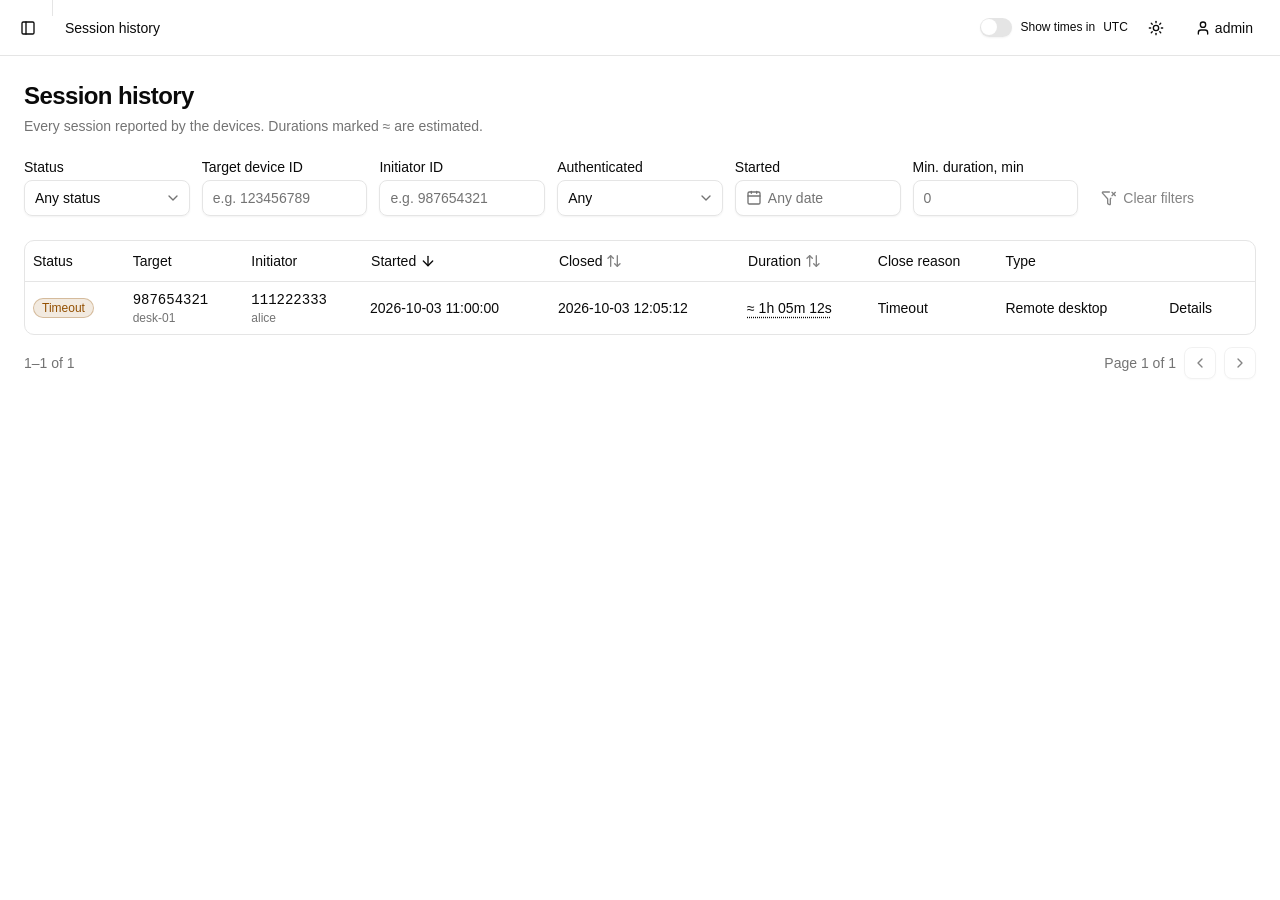
Test: session history › opens a detail sheet with the close reason and the escaped raw events
Click the button with aria-label "Details of session" at point(1191, 308), box [1158, 292, 1223, 324]
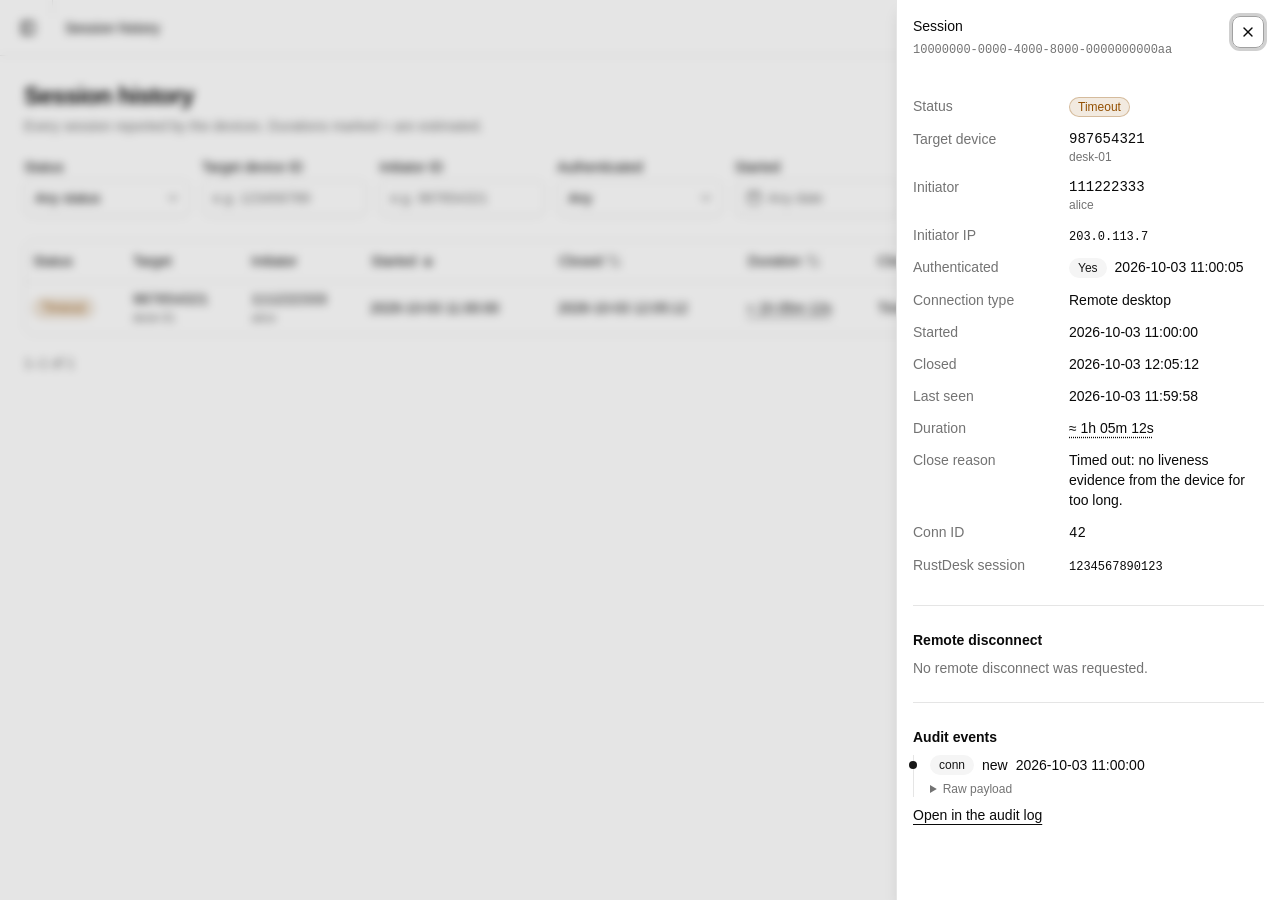
Expected: the text "Timed out: no liveness evidence" is shown, [1069, 452, 1245, 508]
Expected: the text "No remote disconnect was requested." is shown, [913, 660, 1148, 676]
